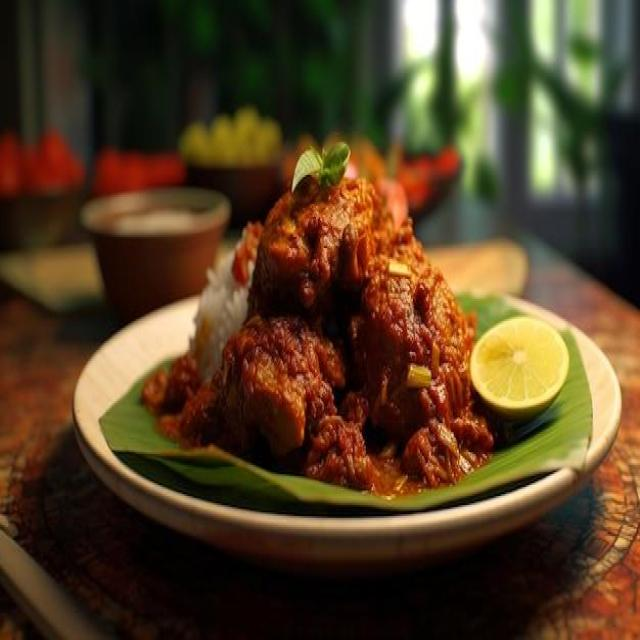Rendang: (228, 145, 482, 506)
